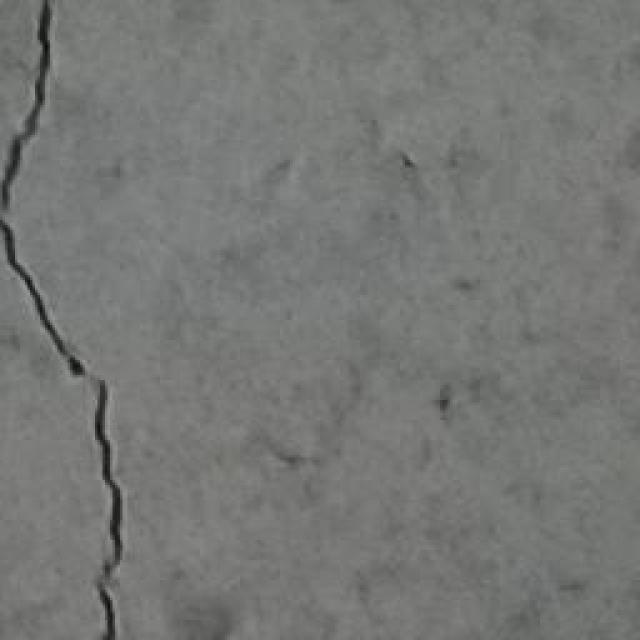Longitudinal: (0, 0, 144, 640)
